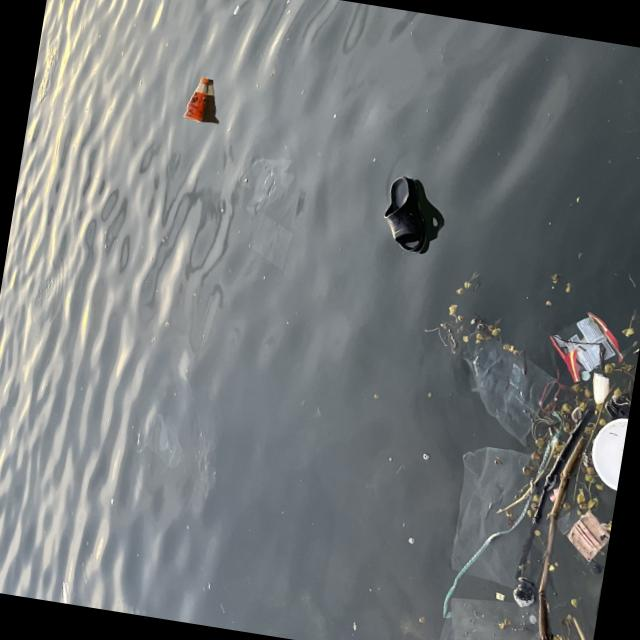foam: (587, 414, 630, 491), (512, 576, 539, 609), (591, 373, 614, 407)
plastic bag: (549, 309, 631, 390)
plastic bottle: (184, 75, 211, 123)
